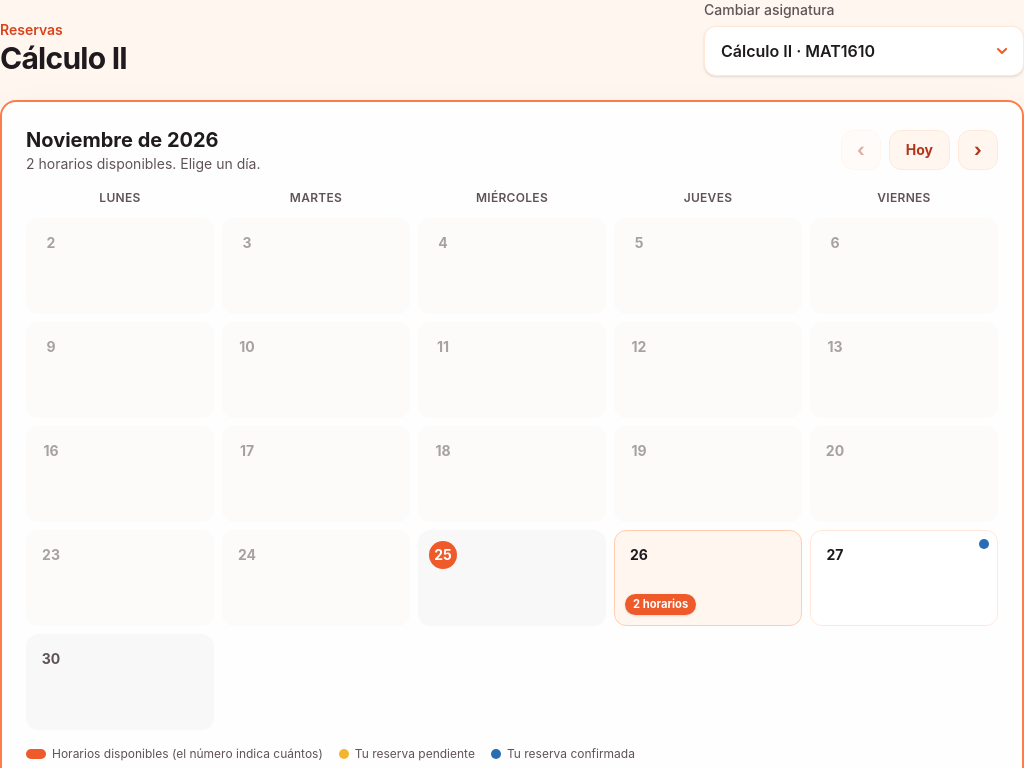
Test: Reservas › en el popup del día se inscribe, avisa los choques y muestra al tutor
Click the button with aria-label "26, 2 horarios" at {"x": 708, "y": 578}, box [614,530,802,626]
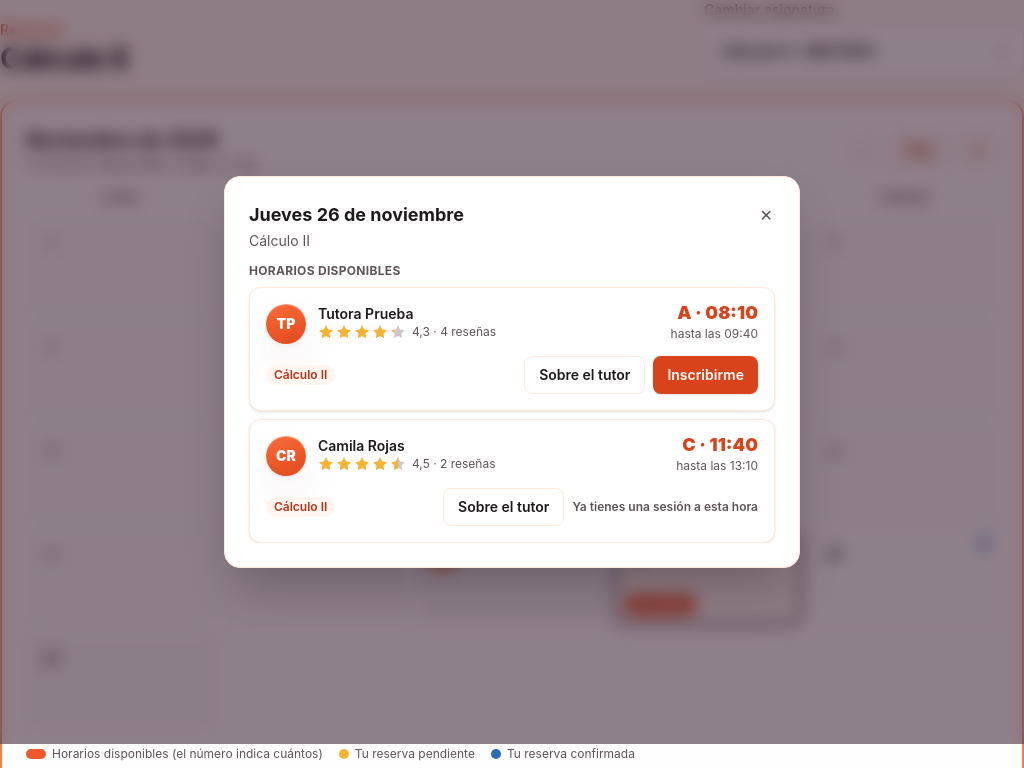
Now the text "Ya tienes una sesión a esta hora" is shown, box [572,499,758,515]
Click the button "Sobre el tutor" below "TP" at {"x": 585, "y": 375}, box [524,356,645,394]
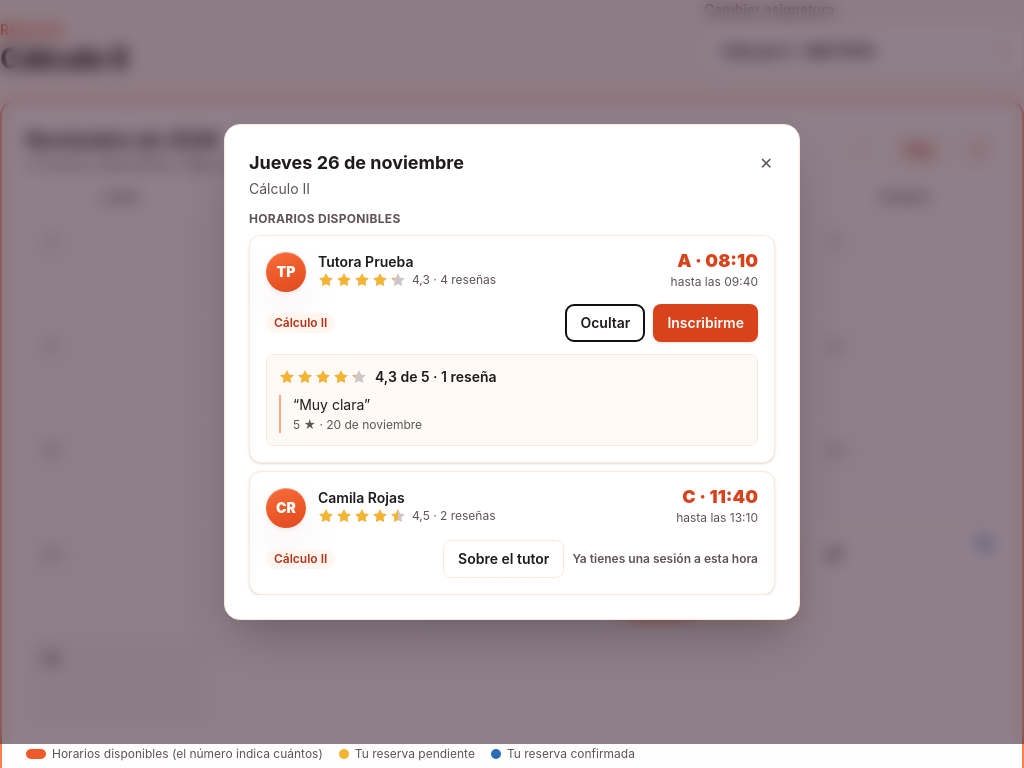
Now the text "“Muy clara”" is shown, box [293,396,370,413]
Click the button "Inscribirme" at {"x": 706, "y": 323}, box [653,304,758,342]
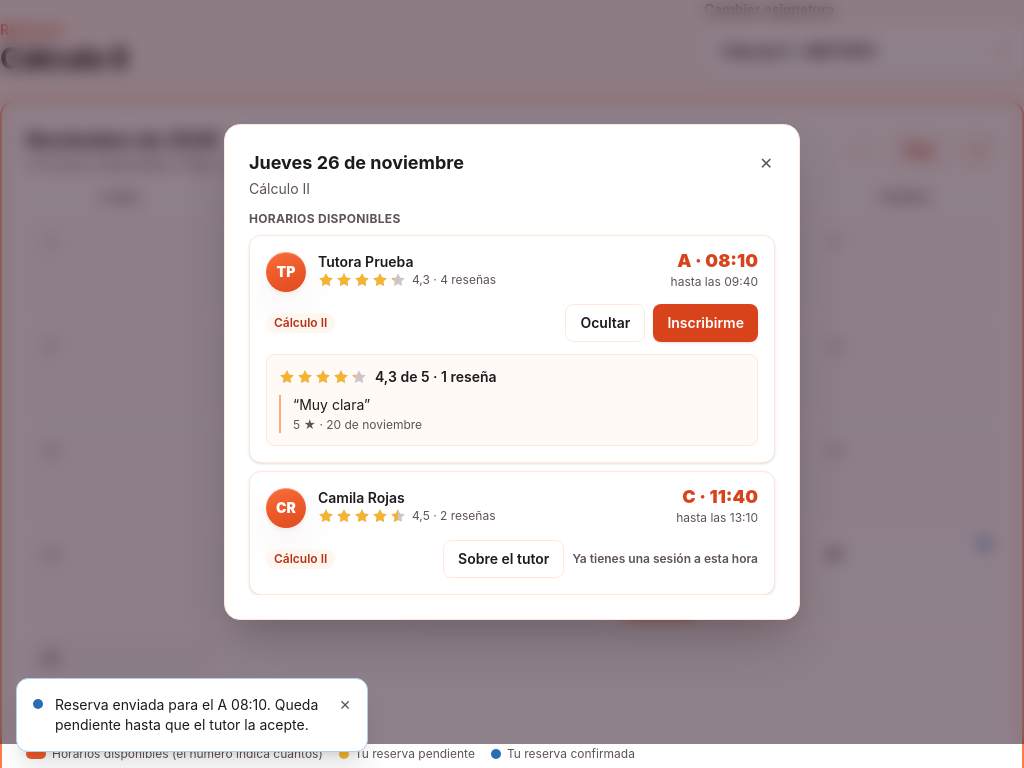
Now the text "Reserva enviada para el A 08:10" is shown, box [55,696,318,733]
